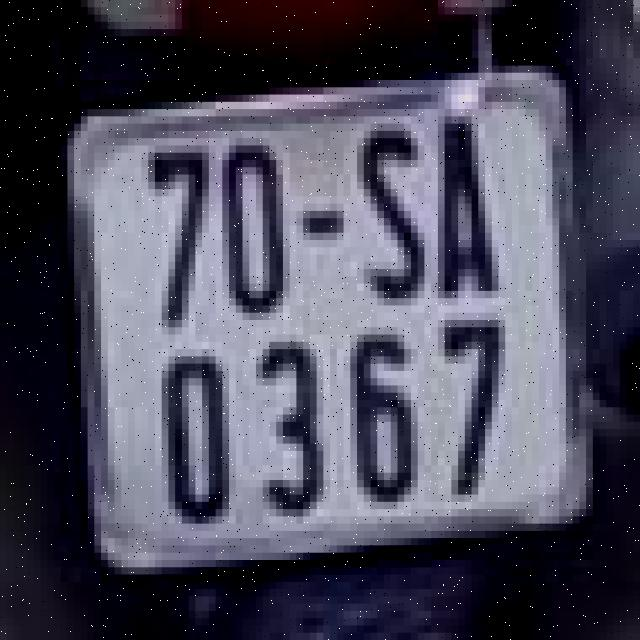0: (152, 349, 239, 531), (212, 131, 293, 320)
3: (243, 338, 330, 520)
6: (347, 331, 421, 505)
7: (134, 135, 216, 338), (434, 306, 508, 509)
A: (438, 106, 498, 309)
S: (354, 106, 434, 309)
